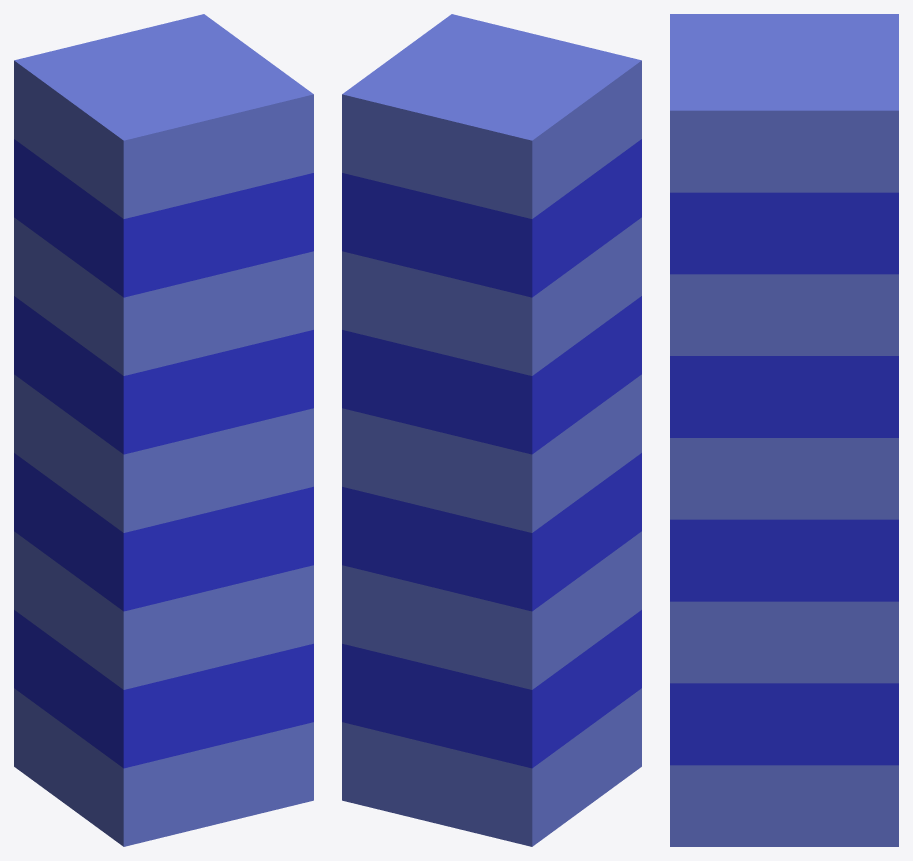
Rendered from M_Building_03.fbx.
3 renders of one model, left to right at view 1: azimuth 30°, elevation 25°; view 2: azimuth 150°, elevation 25°; view 3: azimuth 270°, elevation 25°, orthographic. The views are drawn at different scales.
Visible parts, largest first — view 1: M_Building_03; view 2: M_Building_03; view 3: M_Building_03.
Part boxes in pixels (left/top/right/bottom): M_Building_03: left=14, top=14, right=313, bottom=846; M_Building_03: left=342, top=14, right=641, bottom=846; M_Building_03: left=670, top=14, right=898, bottom=846.
Bounding box in the file's own units: 14.21 × 50.45 × 14.21.
